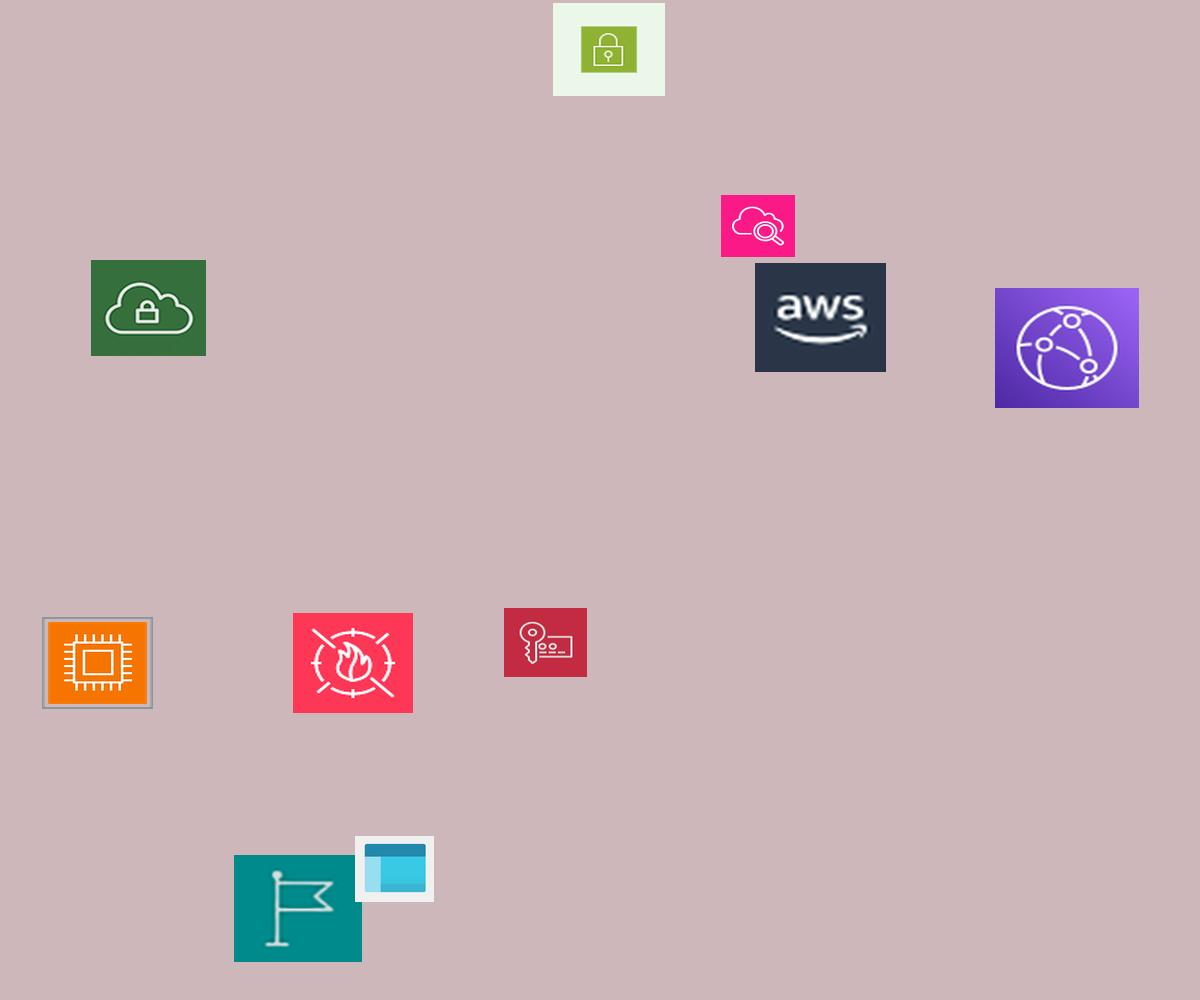AWS-Category_Compute: (42, 617, 153, 709)
AWS-Cloud-logo: (755, 263, 886, 372)
AWS-CloudFront: (995, 288, 1139, 408)
AWS-CloudWatch: (721, 195, 795, 257)
AWS-Key-Management-Service: (504, 608, 587, 677)
AWS-Private_vpc: (91, 260, 206, 356)
AWS-Public-subnet: (553, 3, 665, 96)
AWS-Region: (234, 855, 362, 962)
AWS-WAF: (293, 613, 413, 713)
Azure_management-portal: (355, 836, 434, 902)
